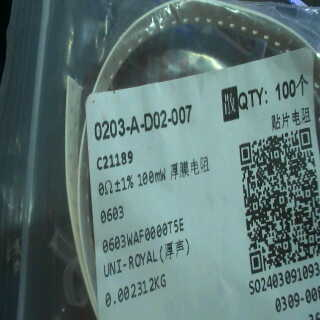0R: (93, 166, 168, 229)
